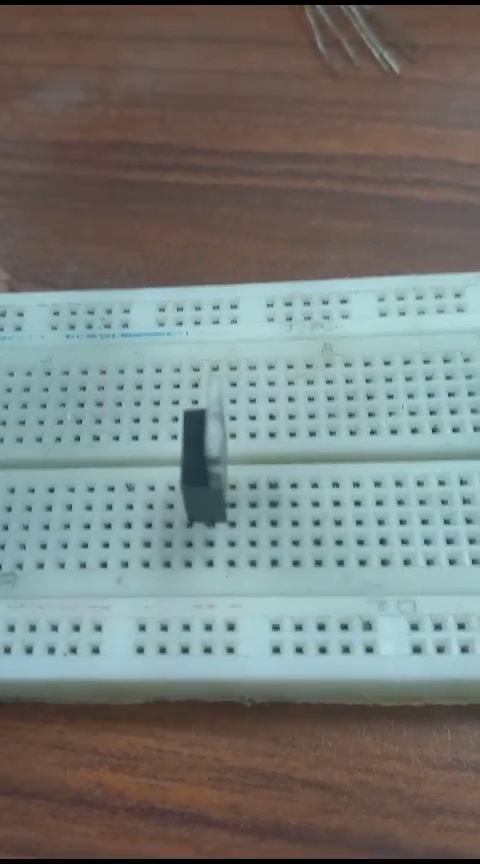voltage regulator: (150, 375, 241, 536)
